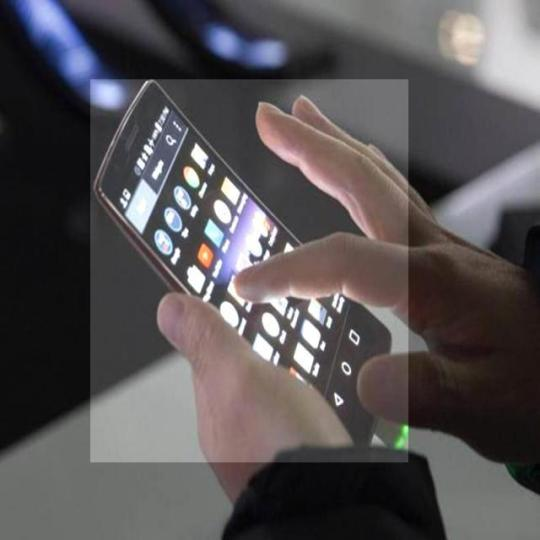phone: (85, 76, 406, 448)
